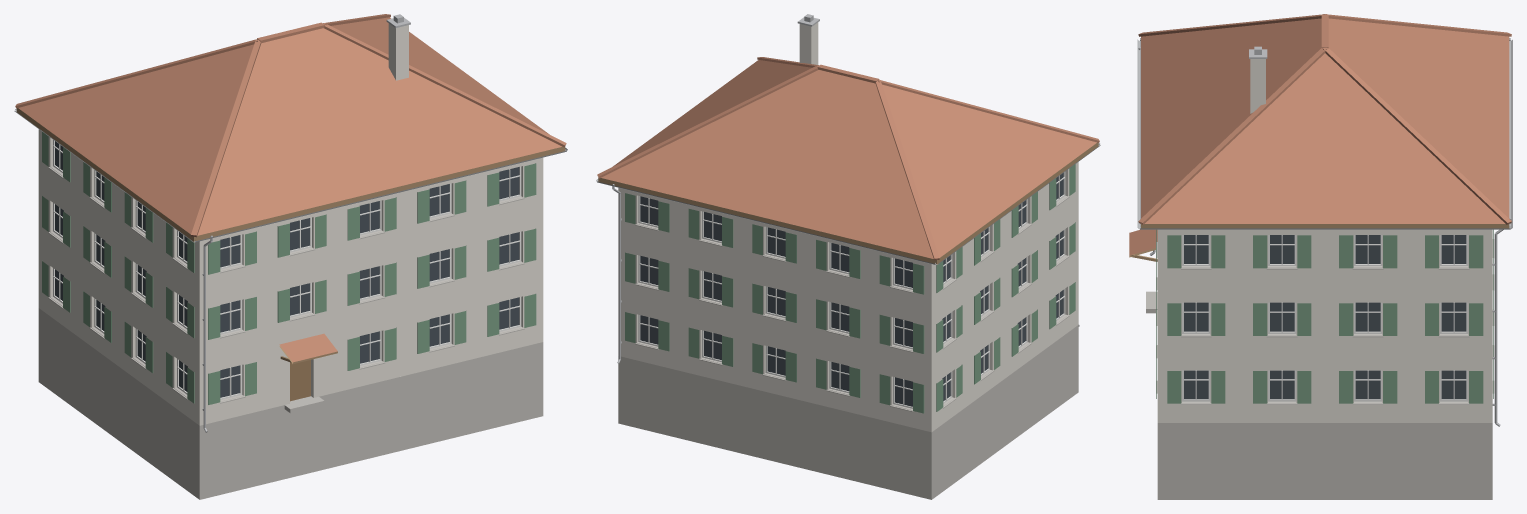
File: house_hipped_3_l.glb
3 views of the same model, side by side, from view 1: azimuth 30°, elevation 25°; view 2: azimuth 150°, elevation 25°; view 3: azimuth 270°, elevation 25° (orthographic). The views are drawn at different scales.
Parts seen in each view (by area): view 1: house_hipped_3_l; view 2: house_hipped_3_l; view 3: house_hipped_3_l.
Part boxes in pixels (<box>): house_hipped_3_l: <box>14,14,567,499</box>; house_hipped_3_l: <box>596,14,1100,499</box>; house_hipped_3_l: <box>1129,14,1512,499</box>.
Size of the model in its own units: 17.5 by 17.25 by 14.88.
